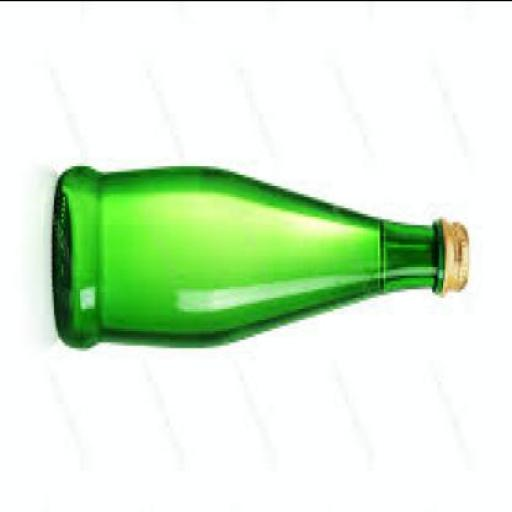glass: (54, 163, 447, 347)
metal: (445, 215, 471, 291)
